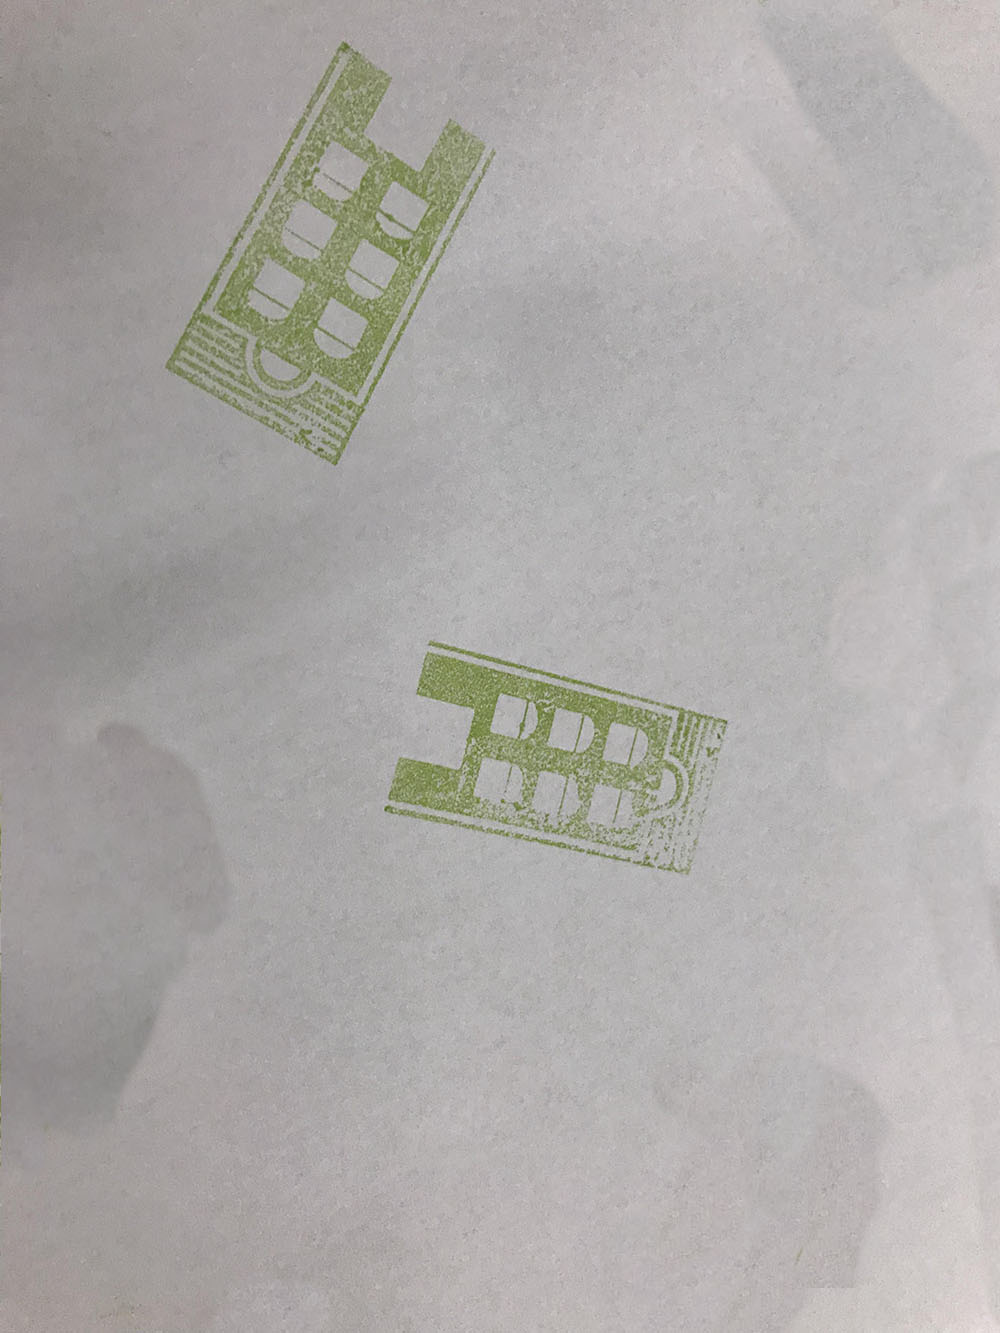build: (136, 21, 514, 504), (331, 608, 771, 900)
